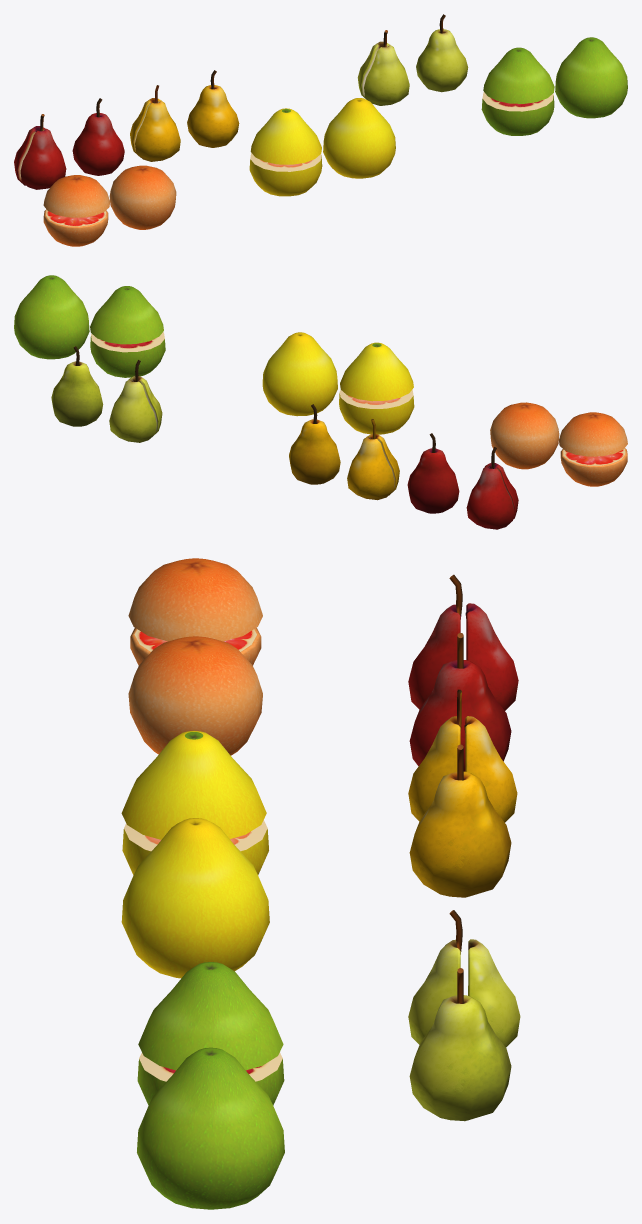
The model's file is fruit1.fbx.
3 views of the same model, one above another, from view 1: azimuth 30°, elevation 25°; view 2: azimuth 150°, elevation 25°; view 3: azimuth 270°, elevation 25° (orthographic). The views are drawn at different scales.
Parts seen in each view (by area): view 1: Pomelo_Green, Pomelo_Yellow, Grapefruit, Pomelo_Green.002, Pomelo_Green.001, Pear_Green, Pear_Brown, Pear_Yellow, Grapefruit.001, Pomelo_Green_Half, Pomelo_Yellow_Half, Pear_Green_Half (+6 smaller); view 2: Pomelo_Green, Pomelo_Yellow, Grapefruit, Pomelo_Green.001, Pomelo_Green.002, Pear_Green, Pear_Brown, Pear_Yellow, Grapefruit.001, Pomelo_Yellow_Half, Pomelo_Green_Half, Pear_Brown_Half.002 (+6 smaller); view 3: Pomelo_Green, Pomelo_Yellow, Grapefruit, Pomelo_Green.002, Pomelo_Green.001, Pear_Yellow, Pear_Green, Grapefruit.001, Pear_Brown, Pear_Green_Half.001, Pear_Brown_Half.002, Pear_Yellow_Half.001 (+6 smaller).
Boxes of the visible parts, x1=… form: Pomelo_Green: x1=555, y1=37, x2=627, y2=118; Pomelo_Yellow: x1=323, y1=98, x2=395, y2=178; Grapefruit: x1=109, y1=165, x2=176, y2=229; Pomelo_Green.002: x1=250, y1=108, x2=321, y2=164; Pomelo_Green.001: x1=483, y1=47, x2=554, y2=103; Pear_Green: x1=416, y1=14, x2=468, y2=92; Pear_Brown: x1=72, y1=98, x2=124, y2=175; Pear_Yellow: x1=187, y1=70, x2=239, y2=147; Grapefruit.001: x1=43, y1=175, x2=110, y2=217; Pomelo_Green_Half: x1=481, y1=92, x2=554, y2=135; Pomelo_Yellow_Half: x1=249, y1=153, x2=322, y2=196; Pear_Green_Half: x1=364, y1=30, x2=409, y2=105; Pomelo_Green: x1=14, y1=275, x2=89, y2=359; Pomelo_Yellow: x1=262, y1=332, x2=337, y2=416; Grapefruit: x1=490, y1=402, x2=559, y2=469; Pomelo_Green.001: x1=90, y1=286, x2=163, y2=344; Pomelo_Green.002: x1=340, y1=342, x2=413, y2=401; Pear_Green: x1=51, y1=346, x2=103, y2=426; Pear_Brown: x1=407, y1=433, x2=459, y2=513; Pear_Yellow: x1=289, y1=404, x2=340, y2=484; Grapefruit.001: x1=558, y1=412, x2=627, y2=456; Pomelo_Yellow_Half: x1=339, y1=389, x2=414, y2=434; Pomelo_Green_Half: x1=90, y1=332, x2=165, y2=377; Pear_Brown_Half.002: x1=466, y1=466, x2=513, y2=529; Pomelo_Green: x1=137, y1=1047, x2=284, y2=1209; Pomelo_Yellow: x1=121, y1=818, x2=269, y2=978; Grapefruit: x1=128, y1=636, x2=262, y2=755; Pomelo_Green.002: x1=121, y1=730, x2=266, y2=839; Pomelo_Green.001: x1=138, y1=962, x2=283, y2=1070; Pear_Yellow: x1=409, y1=744, x2=511, y2=897; Pear_Green: x1=409, y1=968, x2=511, y2=1121; Grapefruit.001: x1=128, y1=558, x2=262, y2=641; Pear_Brown: x1=409, y1=633, x2=511, y2=771; Pear_Green_Half.001: x1=468, y1=939, x2=520, y2=1047; Pear_Brown_Half.002: x1=465, y1=603, x2=518, y2=710; Pear_Yellow_Half.001: x1=464, y1=716, x2=517, y2=822.
Bounding box in the file's own units: 3948 × 533 × 1177.
